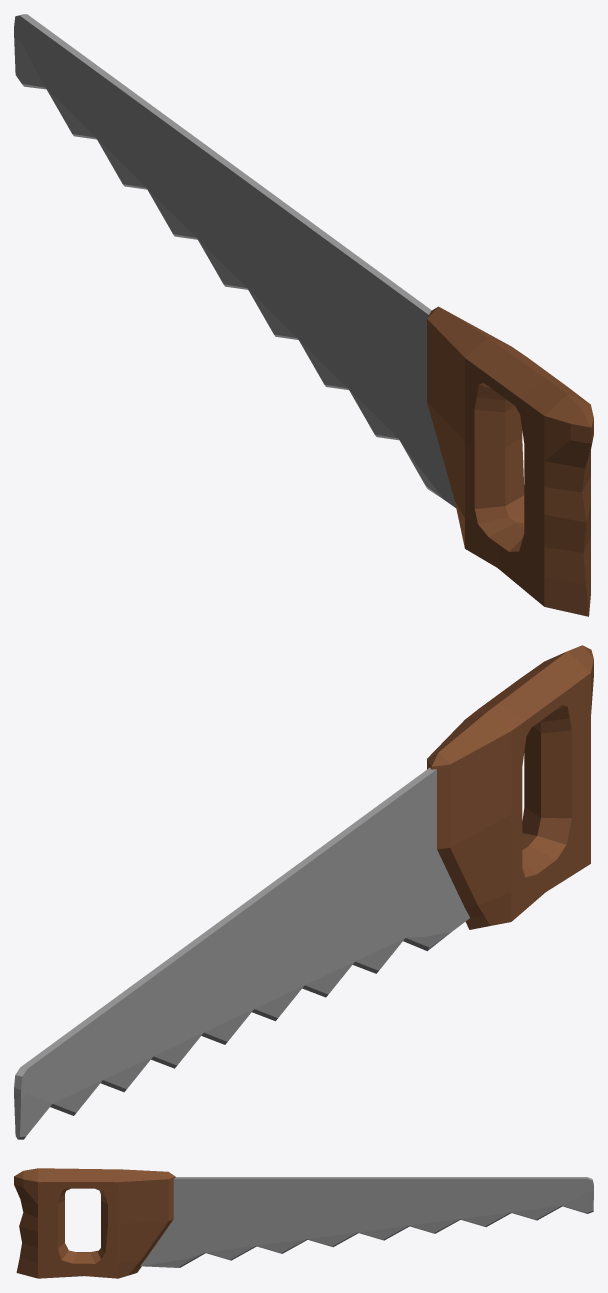
Rendered from handsaw01.obj.
3 renders of one model, top to bottom at view 1: azimuth 30°, elevation 25°; view 2: azimuth 150°, elevation 25°; view 3: azimuth 270°, elevation 25°, orthographic. The views are drawn at different scales.
Visible parts, largest first — view 1: Cylinder.001; view 2: Cylinder.001; view 3: Cylinder.001.
Part boxes in pixels (left/top/right/bottom): Cylinder.001: left=14, top=14, right=593, bottom=616; Cylinder.001: left=14, top=645, right=593, bottom=1139; Cylinder.001: left=14, top=1168, right=593, bottom=1278.
Size of the model in its own units: 0.036 by 0.1517 by 0.7396.
1 material, 1 textured.
